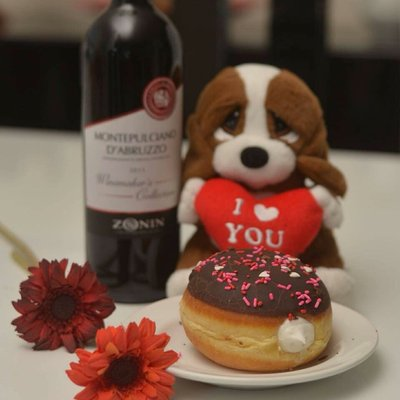burger: (80, 0, 186, 297)
salad: (178, 249, 334, 372), (194, 176, 324, 257)
